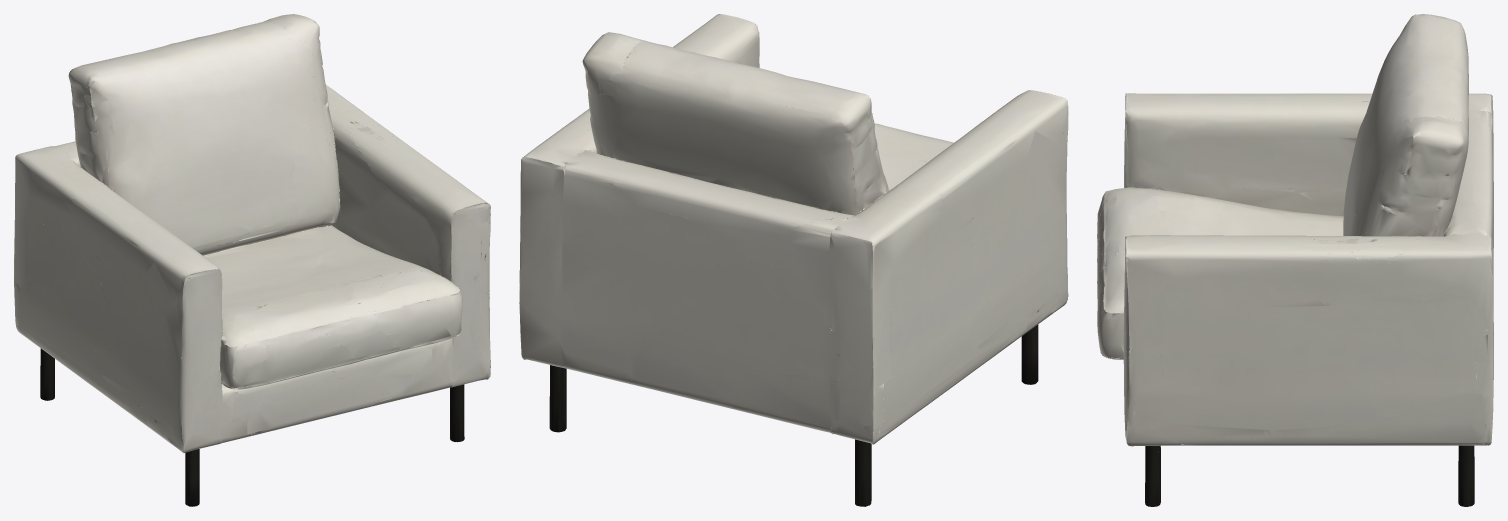
The model's file is ikea-saltsjobaden-armchair-blekinge-white-39622710.glb.
3 views of the same model, side by side, from view 1: azimuth 30°, elevation 25°; view 2: azimuth 150°, elevation 25°; view 3: azimuth 270°, elevation 25° (orthographic). The views are drawn at different scales.
Visible parts, largest first — view 1: model; view 2: model; view 3: model.
Boxes of the visible parts, bbox=[...] form: model: bbox=[14, 14, 490, 506]; model: bbox=[519, 14, 1068, 506]; model: bbox=[1097, 14, 1493, 506].
Size of the model in its own units: 1.77 by 1.83 by 1.81.
Materials: 1 (1 with a texture image).
